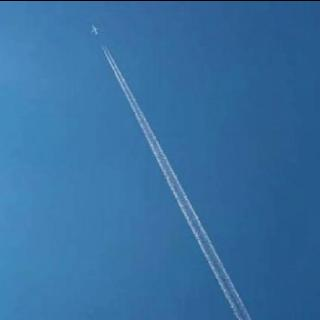Contrails: (101, 37, 257, 316)
